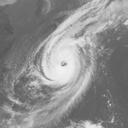cyclone: (40, 39, 84, 87)
